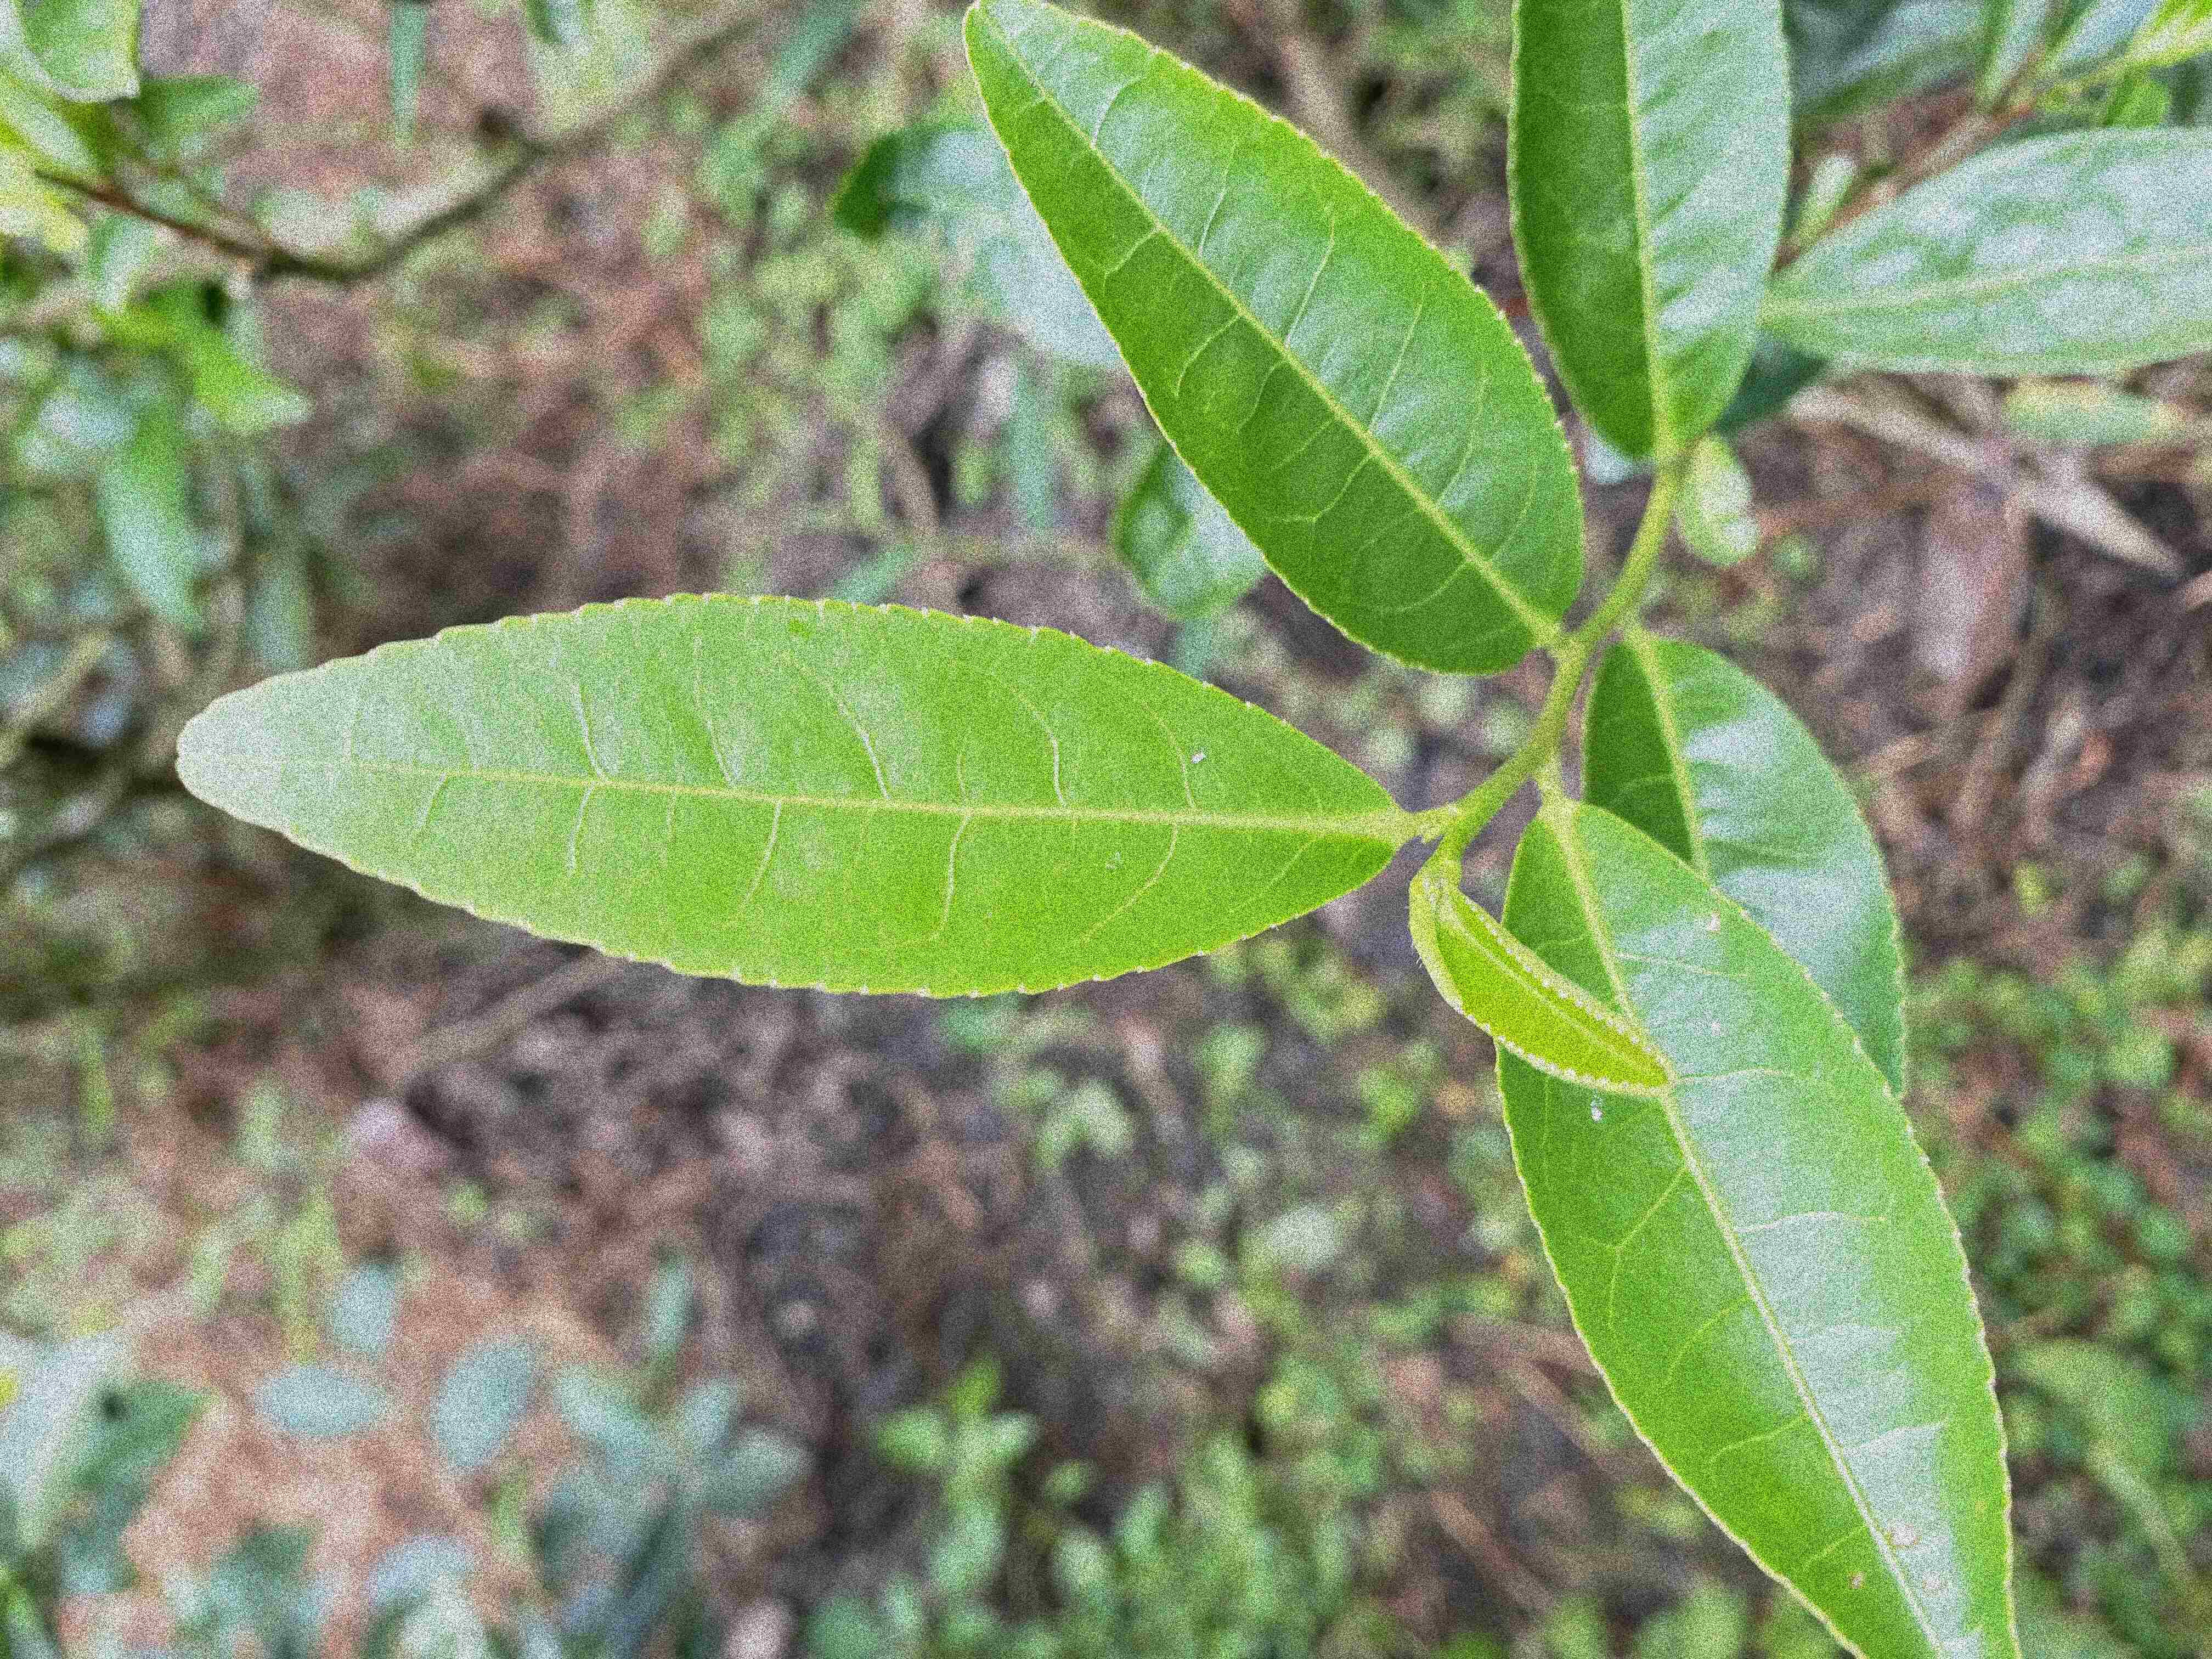healthy: (171, 591, 1393, 1002), (963, 2, 1581, 676), (1503, 3, 1799, 464)
tanju_low: (1493, 795, 2022, 1656)
